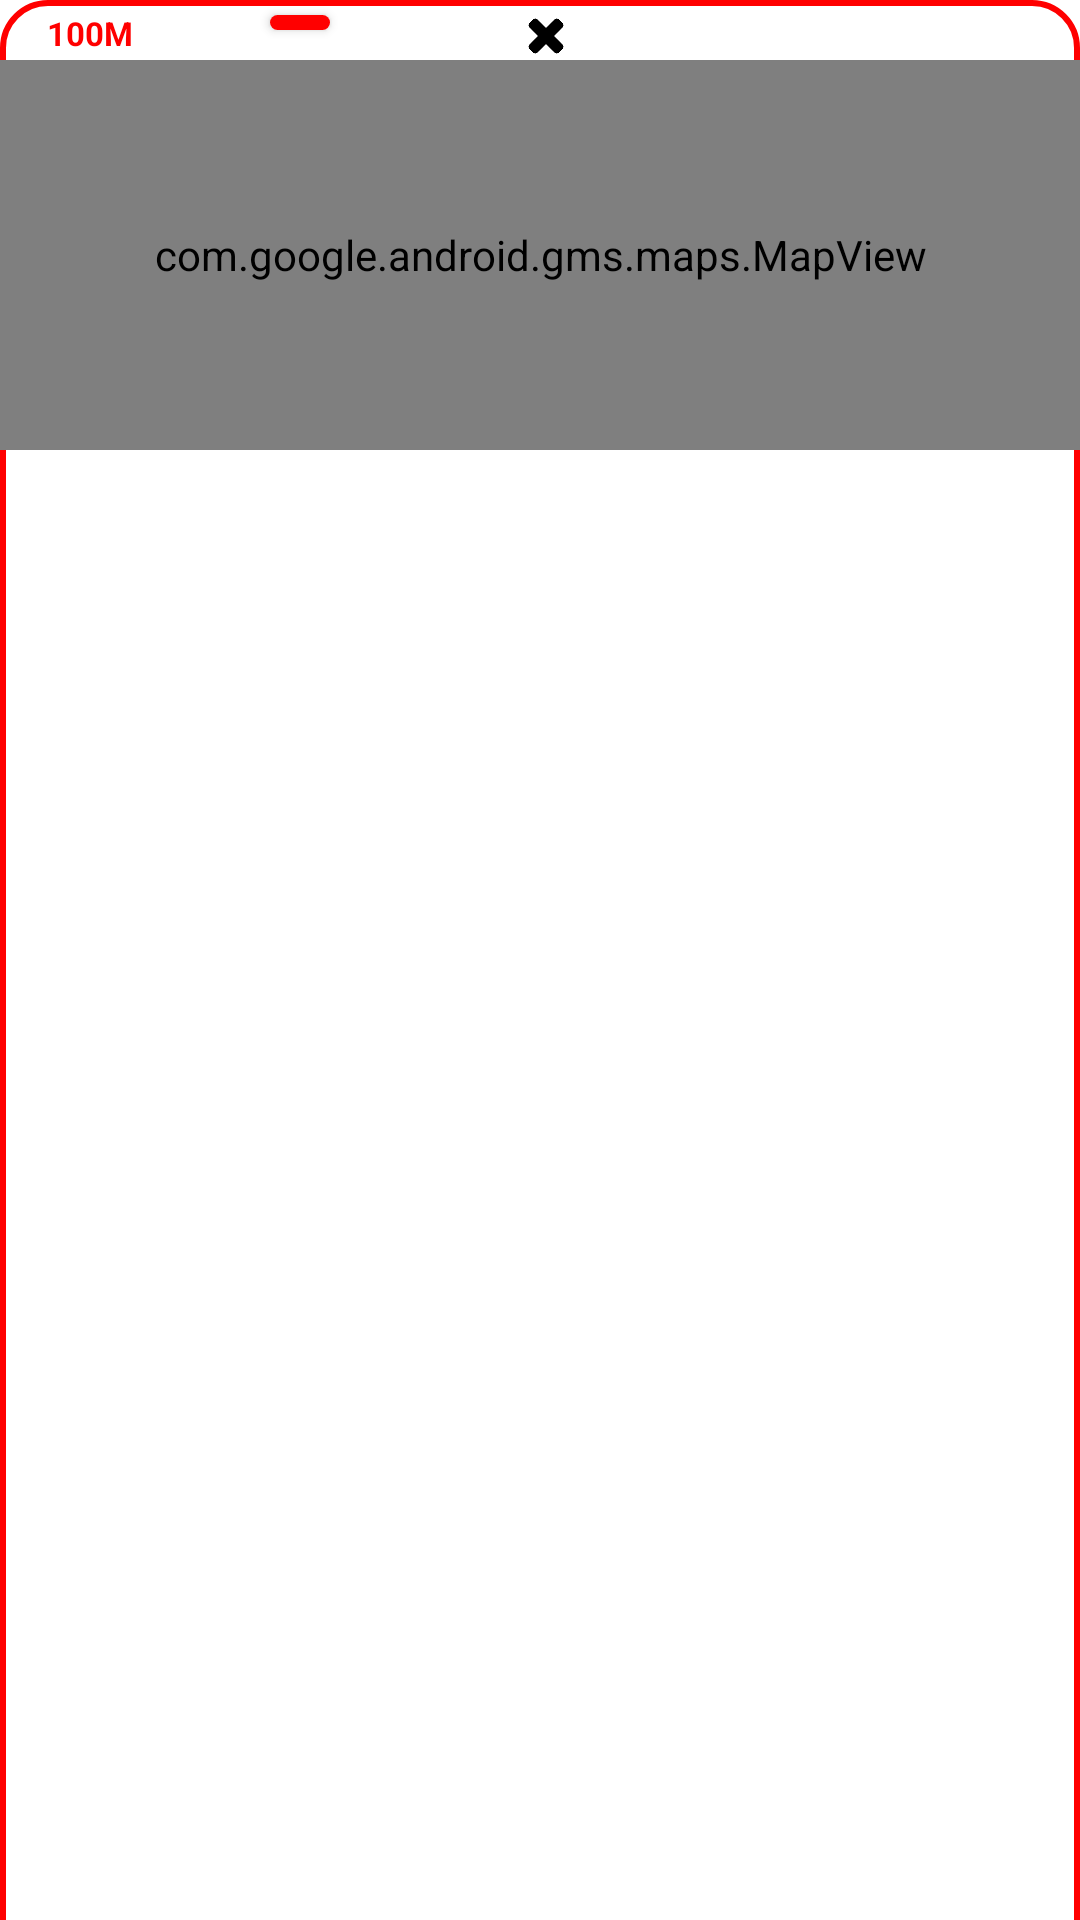

Screen size 1080w x 1920h. Icon name, then its box in pixels as (x1, y1, x2, y2):
close: (528, 18, 564, 54)
